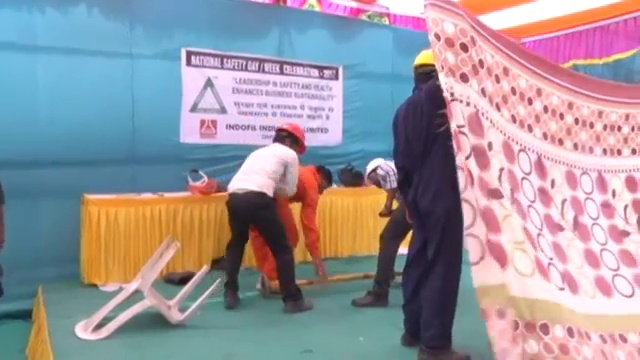helmet: (276, 122, 308, 151), (413, 46, 440, 71), (363, 156, 384, 188)
helmet_off: (312, 164, 334, 195)
helmet_on: (271, 122, 307, 153), (412, 45, 437, 88), (364, 157, 385, 190)
person: (392, 45, 469, 360), (218, 122, 312, 311), (251, 162, 334, 293), (351, 154, 407, 308)
